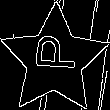P_W: (30, 40, 79, 80)
